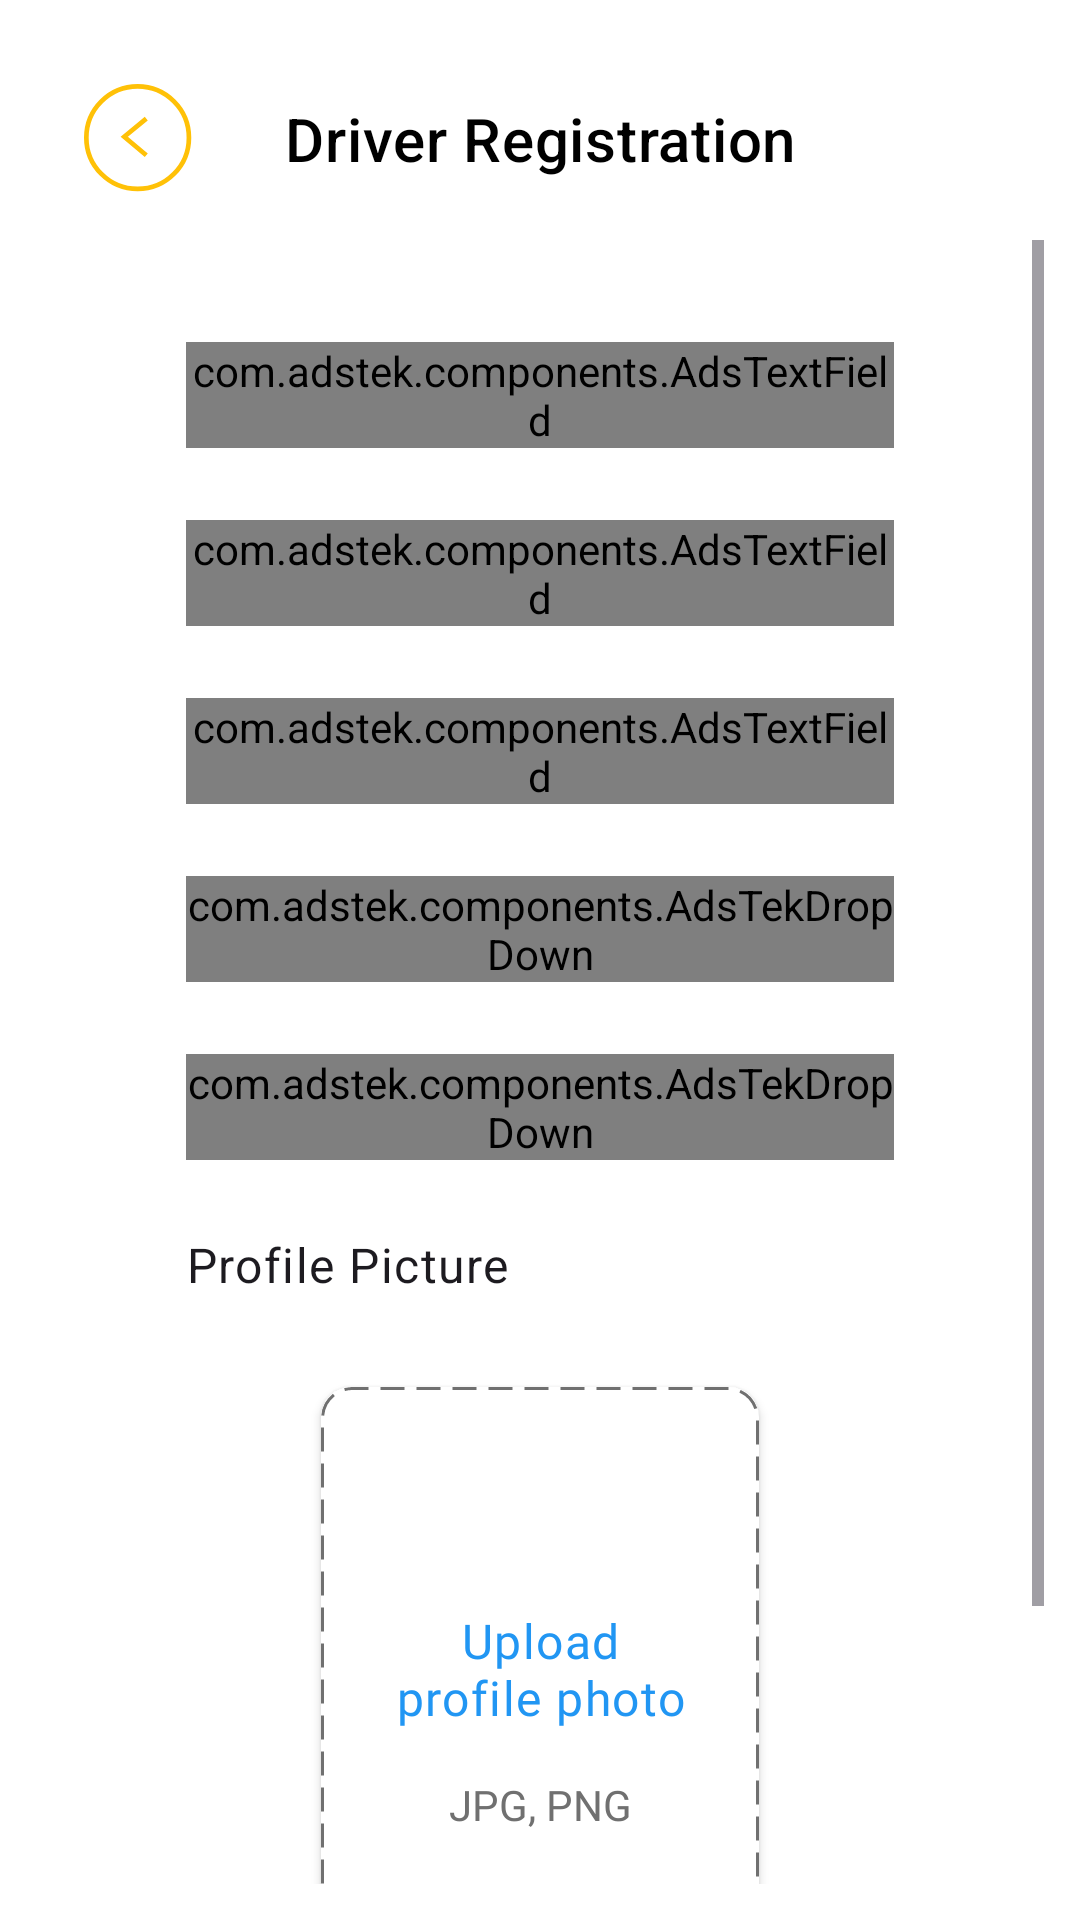

Named icons in this screenshot (1080×1920) and their bounding boxes, (x1, y1, x2, y2):
back vec: (84, 84, 192, 192)
